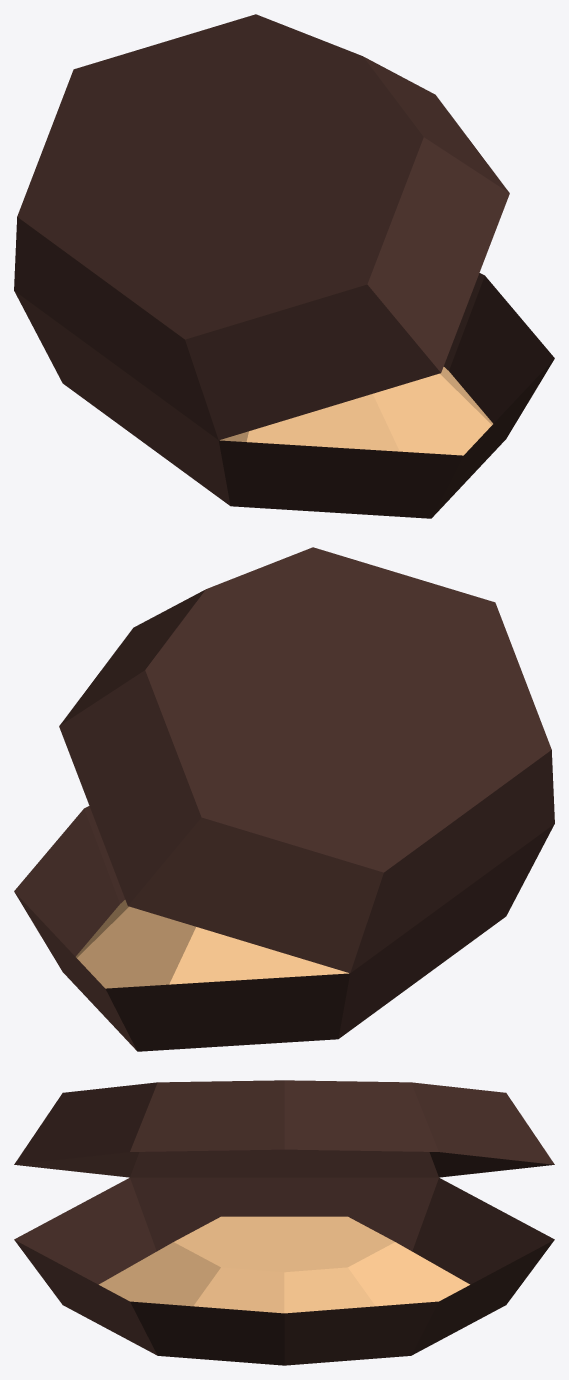
File: musselOpen.fbx
3 renders of one model, top to bottom at view 1: azimuth 30°, elevation 25°; view 2: azimuth 150°, elevation 25°; view 3: azimuth 270°, elevation 25°, orthographic. The views are drawn at different scales.
Parts seen in each view (by area): view 1: musselOpen; view 2: musselOpen; view 3: musselOpen.
Part boxes in pixels (<box>): musselOpen: <box>14,14,554,518</box>; musselOpen: <box>14,547,554,1051</box>; musselOpen: <box>14,1080,554,1365</box>.
Bounding box in the file's own units: 0.961 × 0.8036 × 1.55.
